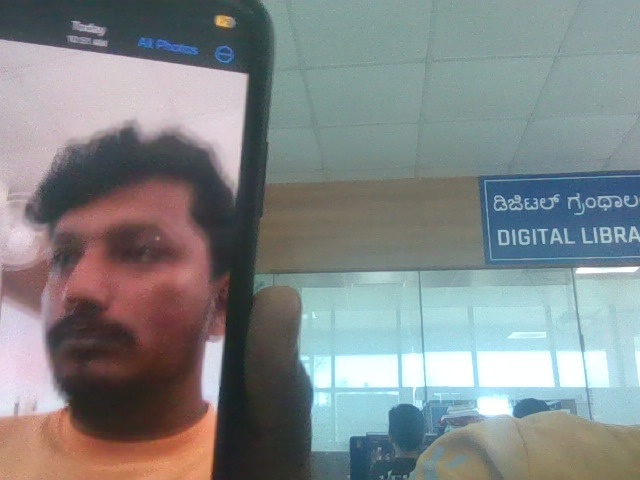fake: (11, 93, 240, 417)
